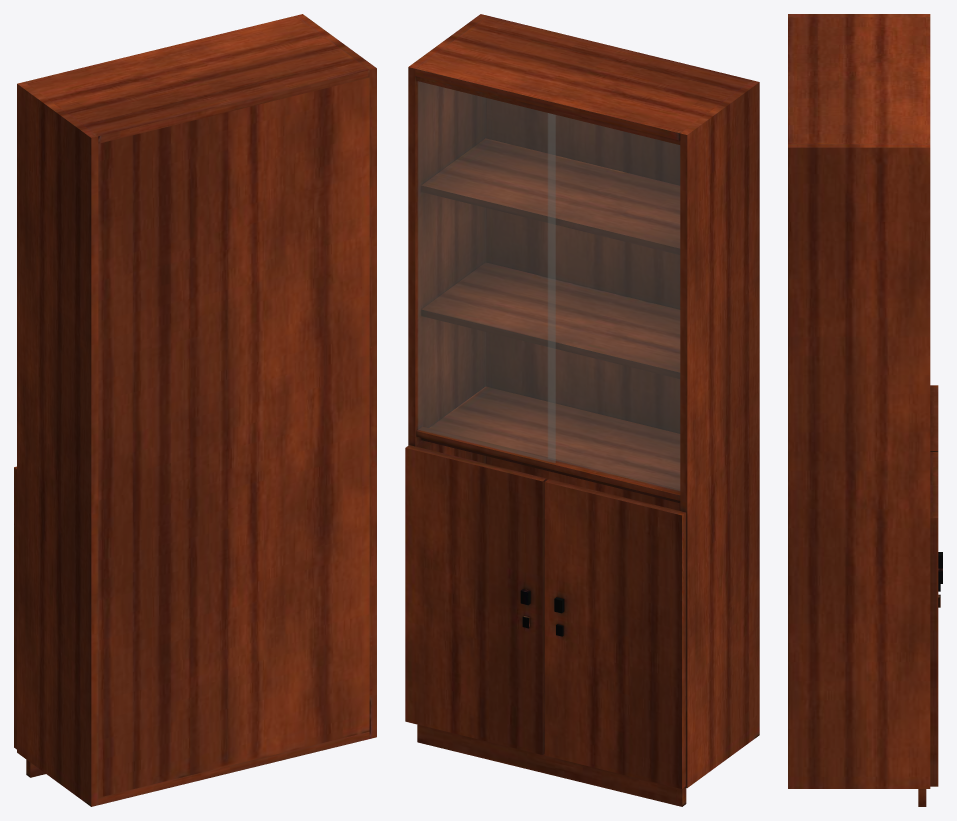
The model's file is bookcase_glass_web.glb.
3 views of the same model, side by side, from view 1: azimuth 30°, elevation 25°; view 2: azimuth 150°, elevation 25°; view 3: azimuth 270°, elevation 25° (orthographic). The views are drawn at different scales.
Visible parts, largest first — view 1: BookcaseGlass_Body, Door_R_Mesh; view 2: BookcaseGlass_Body, Glass_A, Glass_B, Door_R_Mesh, Door_L_Mesh; view 3: BookcaseGlass_Body, Door_L_Mesh, Door_R_Mesh.
Part boxes in pixels (x1,y1,x2,y2): BookcaseGlass_Body: (17,14,376,806); Door_R_Mesh: (14,466,16,749); BookcaseGlass_Body: (408,14,759,806); Glass_A: (418,81,555,462); Glass_B: (548,113,679,490); Door_R_Mesh: (544,479,686,788); Door_L_Mesh: (405,445,546,754); BookcaseGlass_Body: (788,14,930,806); Door_L_Mesh: (930,452,942,786); Door_R_Mesh: (930,385,942,591).
Size of the model in its own units: 0.8001 by 1.85 by 0.392.
2 materials, 1 textured.
